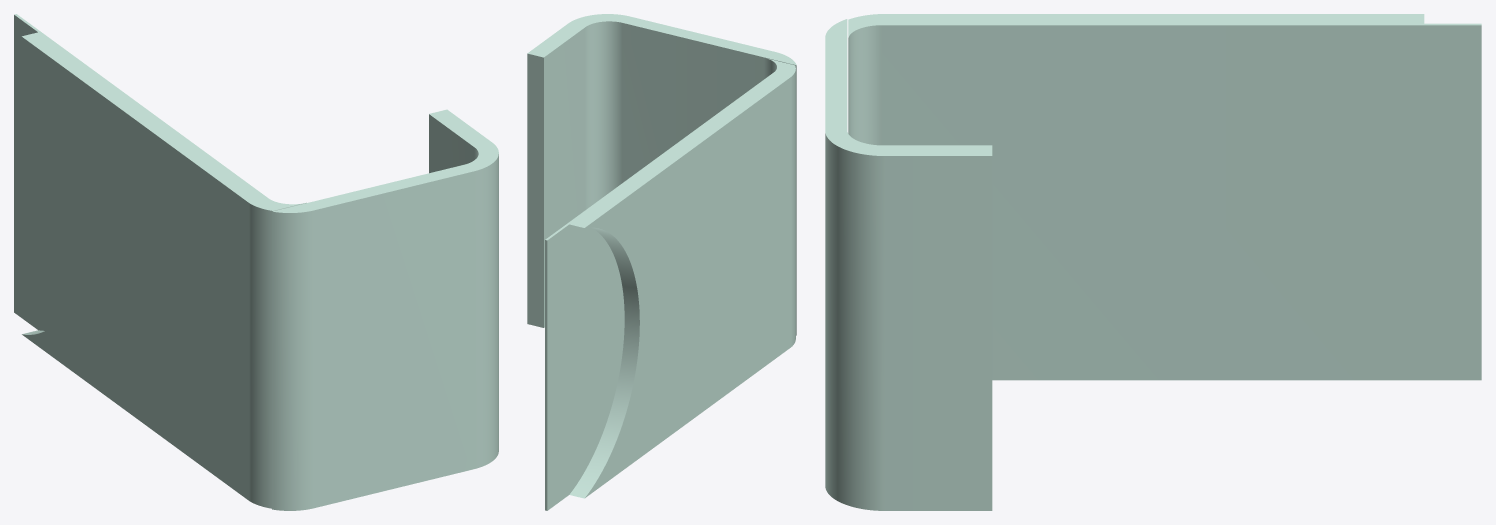
3 views of the same model, side by side, from view 1: azimuth 30°, elevation 25°; view 2: azimuth 150°, elevation 25°; view 3: azimuth 270°, elevation 25° (orthographic). The views are drawn at different scales.
Parts seen in each view (by area): view 1: Renderer Node; view 2: Renderer Node; view 3: Renderer Node.
Part boxes in pixels (box(x1,y1,x2,y2)): Renderer Node: box(14, 14, 498, 510); Renderer Node: box(527, 14, 796, 510); Renderer Node: box(825, 14, 1481, 510).
Bounding box in the file's own units: 0.4561 × 0.5313 × 0.8907.
